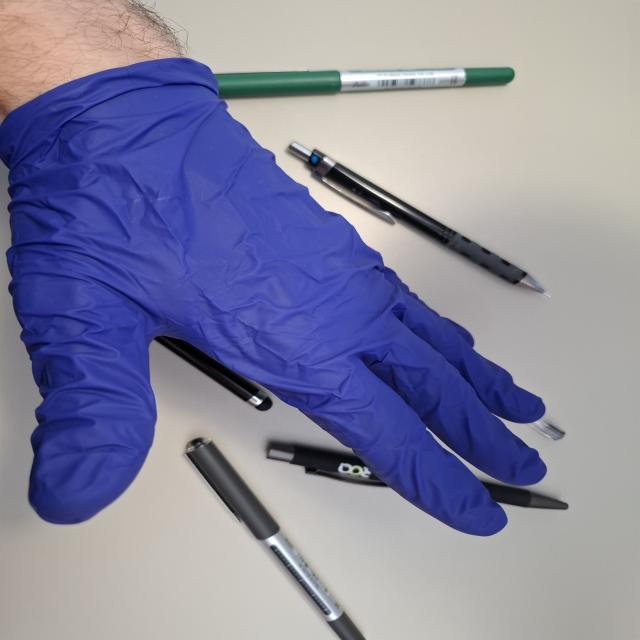glove_on: (1, 52, 549, 544)
